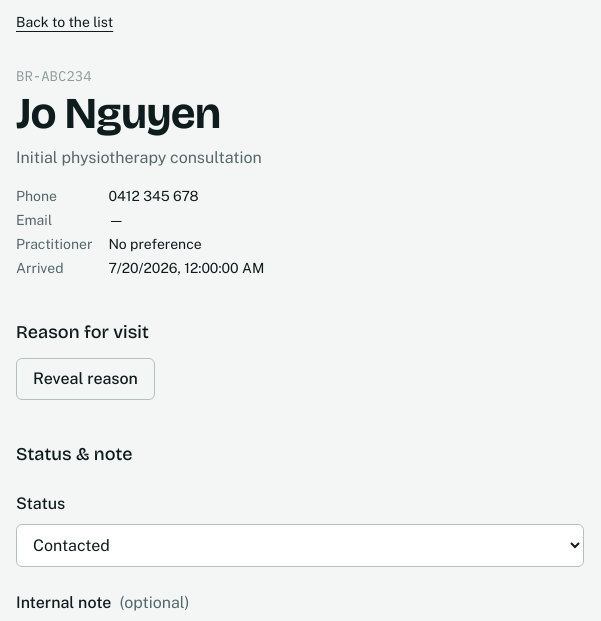
Test: AdminRequestDetail › shows "nothing to show" when the reveal action returns a null reason
Expected: the heading "Jo Nguyen" is shown, [16,87,220,140]
Click the button "Reveal reason". click: (85,378)
box: [16,358,155,400]
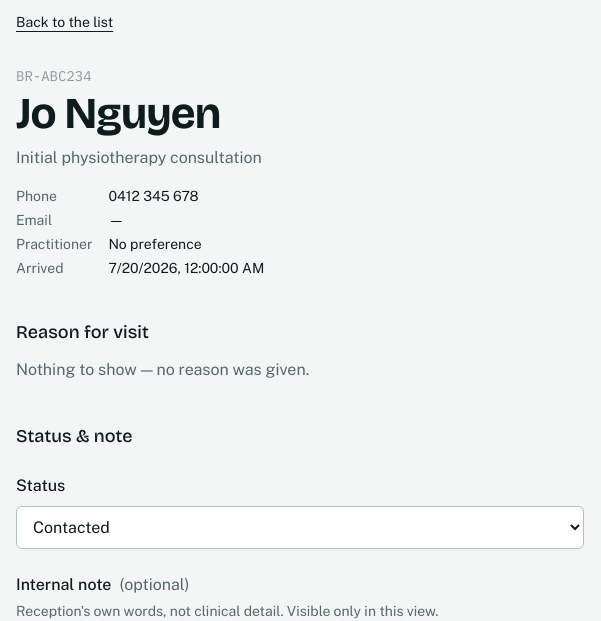
Now the text "Nothing to show — no reason was given." is shown, box [16,360,309,378]
